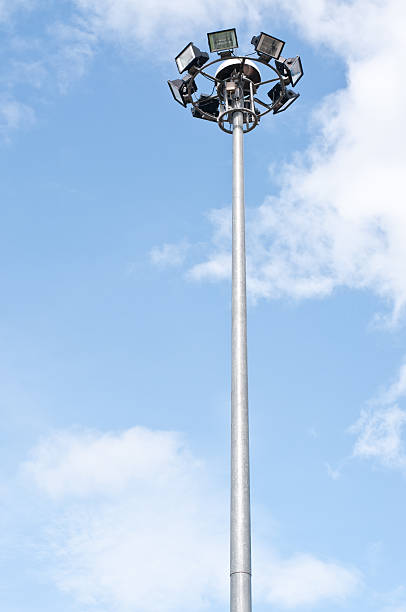light_pole: (228, 128, 254, 612)
